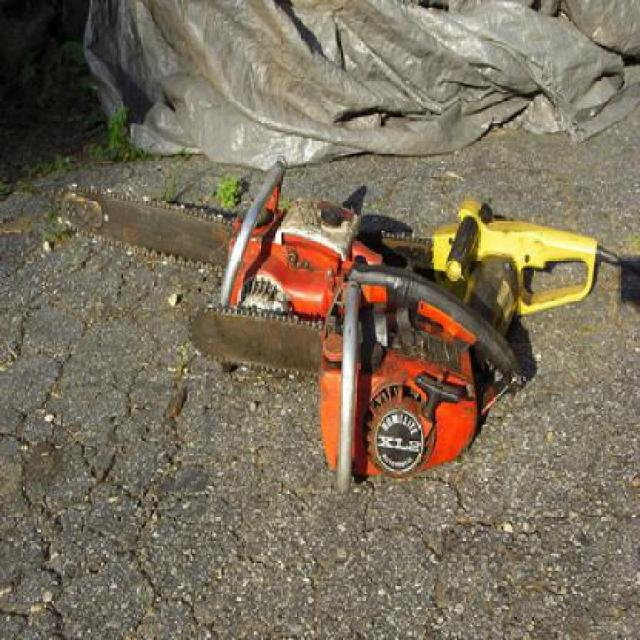Chainsaw: (189, 255, 529, 496), (57, 162, 381, 316), (363, 192, 640, 317)
